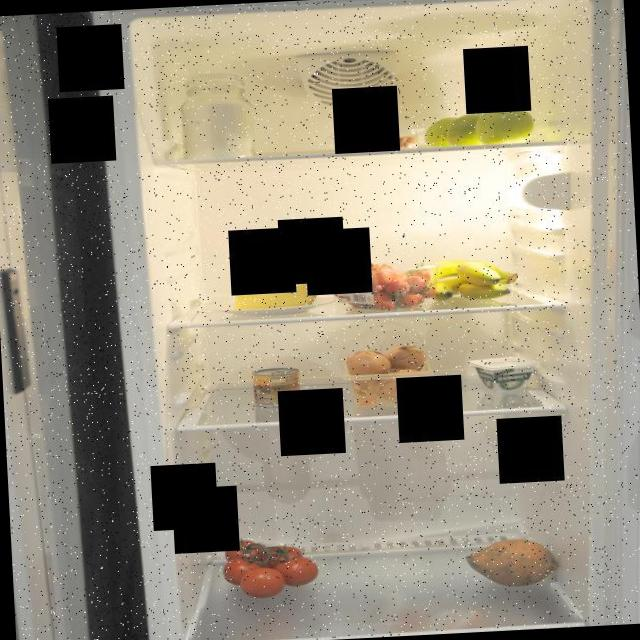Cebolla: (342, 342, 431, 408)
Gambas/Langostinos: (332, 128, 426, 154)
Manzana: (417, 102, 538, 147)
Plátano: (426, 254, 518, 306)
Queso: (228, 272, 321, 317), (467, 356, 543, 398)
Tomate: (218, 532, 325, 602)
corn: (248, 363, 304, 409)
strawberries: (328, 258, 438, 312)
sugar: (174, 70, 270, 165)
sweet_potato: (457, 527, 569, 597)
